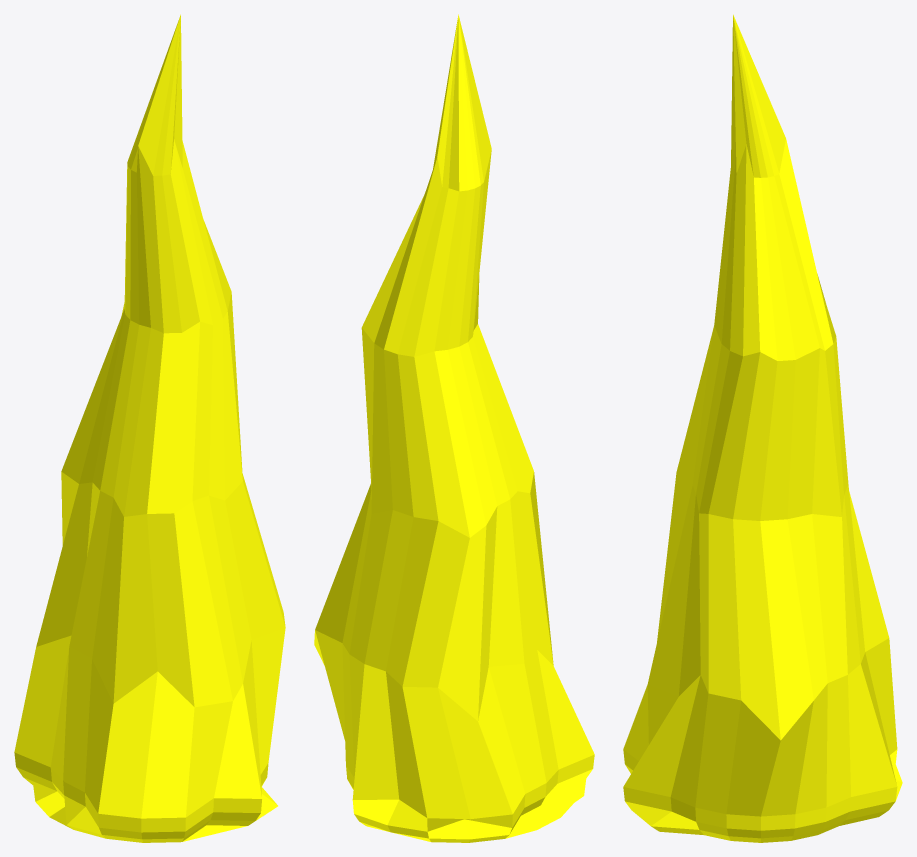
The model's file is spike5.fbx.
The picture shows the model from 3 angles, left to right: view 1: azimuth 30°, elevation 25°; view 2: azimuth 150°, elevation 25°; view 3: azimuth 270°, elevation 25°; orthographic projection. The views are drawn at different scales.
Parts seen in each view (by area): view 1: pCone6; view 2: pCone6; view 3: pCone6.
Boxes of the visible parts, x1,y1,x2,y2 form: pCone6: [14, 14, 285, 842]; pCone6: [314, 14, 594, 842]; pCone6: [623, 14, 902, 842].
Bounding box in the file's own units: 50.1 × 153 × 48.88.
